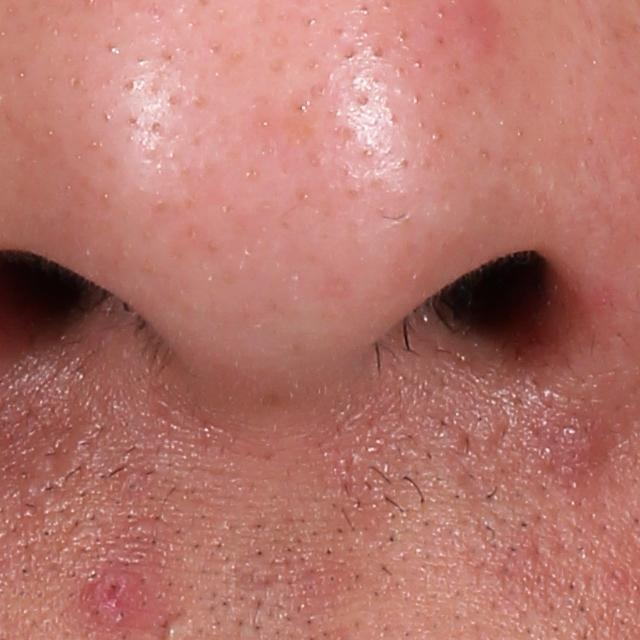papule: (77, 550, 153, 623), (561, 413, 609, 473)
